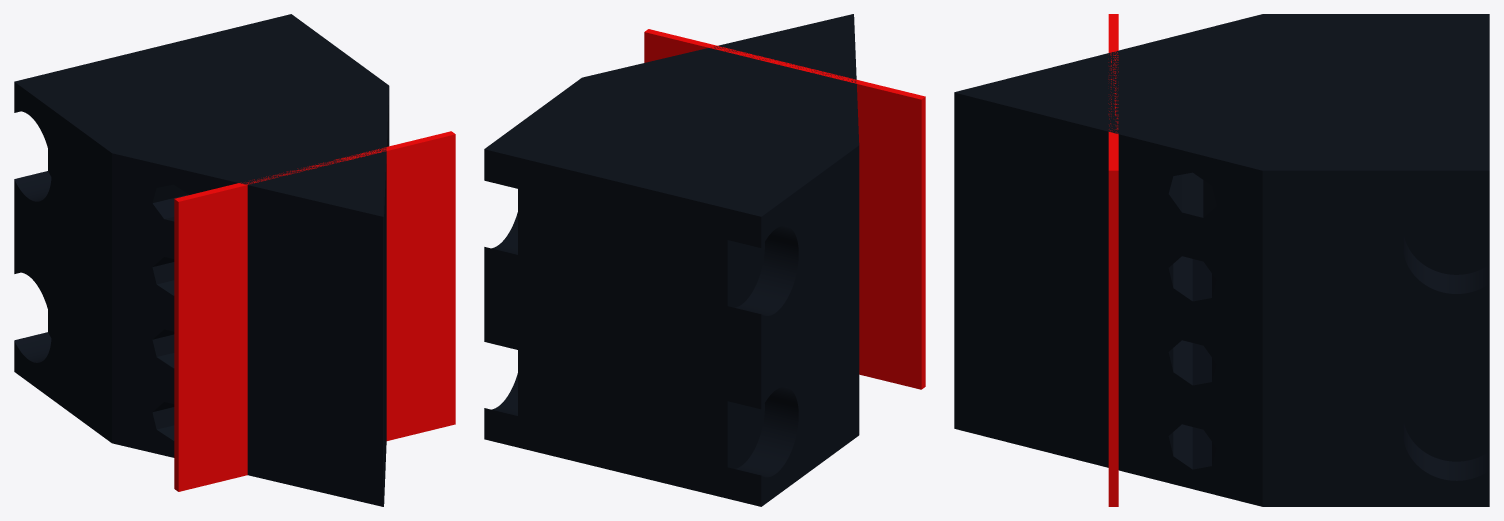
Rendered from Robot_msl.dae.
3 views of the same model, side by side, from view 1: azimuth 30°, elevation 25°; view 2: azimuth 150°, elevation 25°; view 3: azimuth 270°, elevation 25° (orthographic). The views are drawn at different scales.
Parts seen in each view (by area): view 1: node0, node1; view 2: node0, node1; view 3: node0, node1.
Part boxes in pixels (box(x1,y1,x2,y2)): node0: box(14, 14, 389, 506); node1: box(174, 131, 455, 491); node0: box(484, 14, 859, 506); node1: box(644, 29, 925, 389); node0: box(954, 14, 1489, 506); node1: box(1108, 14, 1118, 506).
Size of the model in its own units: 0.45 by 0.6491 by 0.45.
